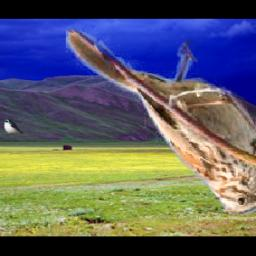Sparrow: (66, 29, 256, 214)
Swallow: (3, 118, 25, 134)
